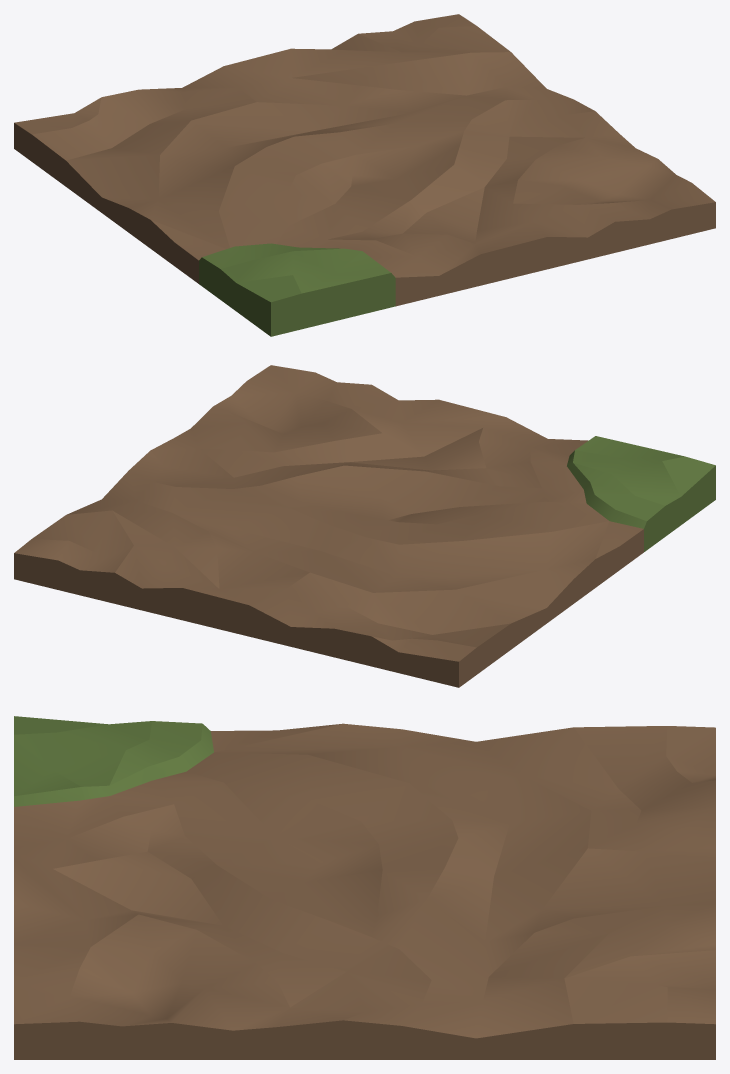
The model's file is Ground_Corner_External_LB.glb.
3 renders of one model, top to bottom at view 1: azimuth 30°, elevation 25°; view 2: azimuth 150°, elevation 25°; view 3: azimuth 270°, elevation 25°, orthographic. The views are drawn at different scales.
Visible parts, largest first — view 1: Ground_Corner_External_LB; view 2: Ground_Corner_External_LB; view 3: Ground_Corner_External_LB.
Part boxes in pixels (<box>): Ground_Corner_External_LB: <box>14,14,715,336</box>; Ground_Corner_External_LB: <box>14,365,715,687</box>; Ground_Corner_External_LB: <box>14,716,715,1059</box>.
Bounding box in the file's own units: 1.47 × 0.1291 × 1.47.
